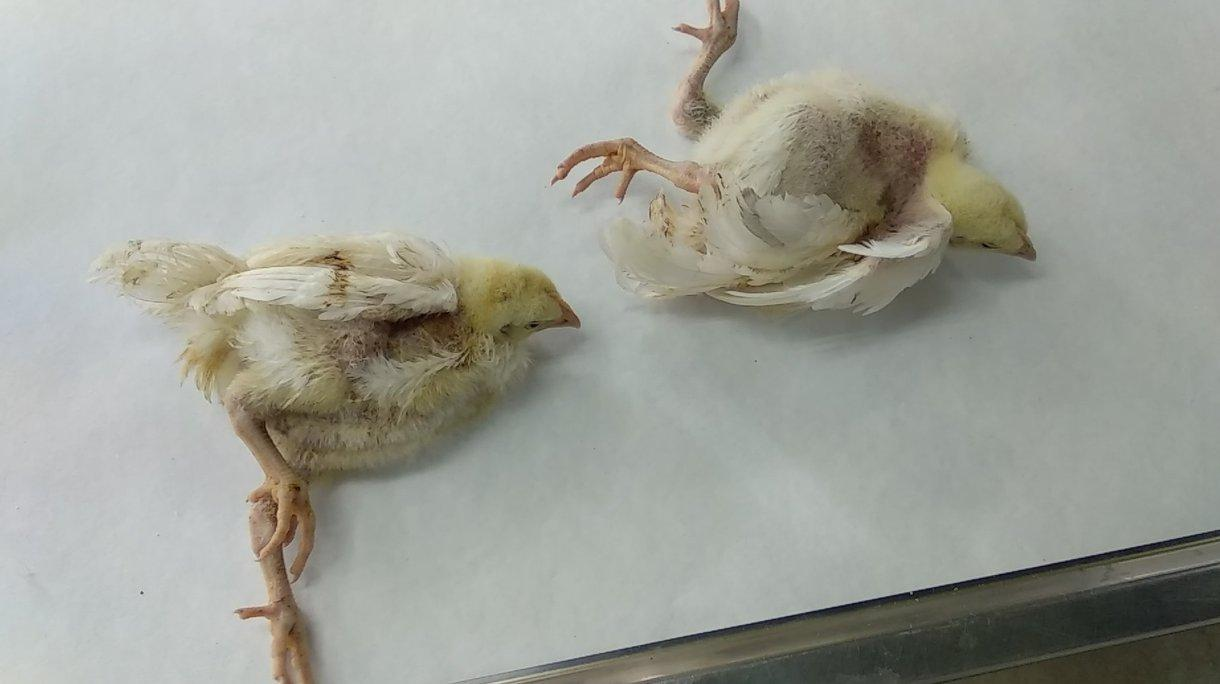AbNormal: (87, 225, 587, 684), (549, 2, 1044, 309)
